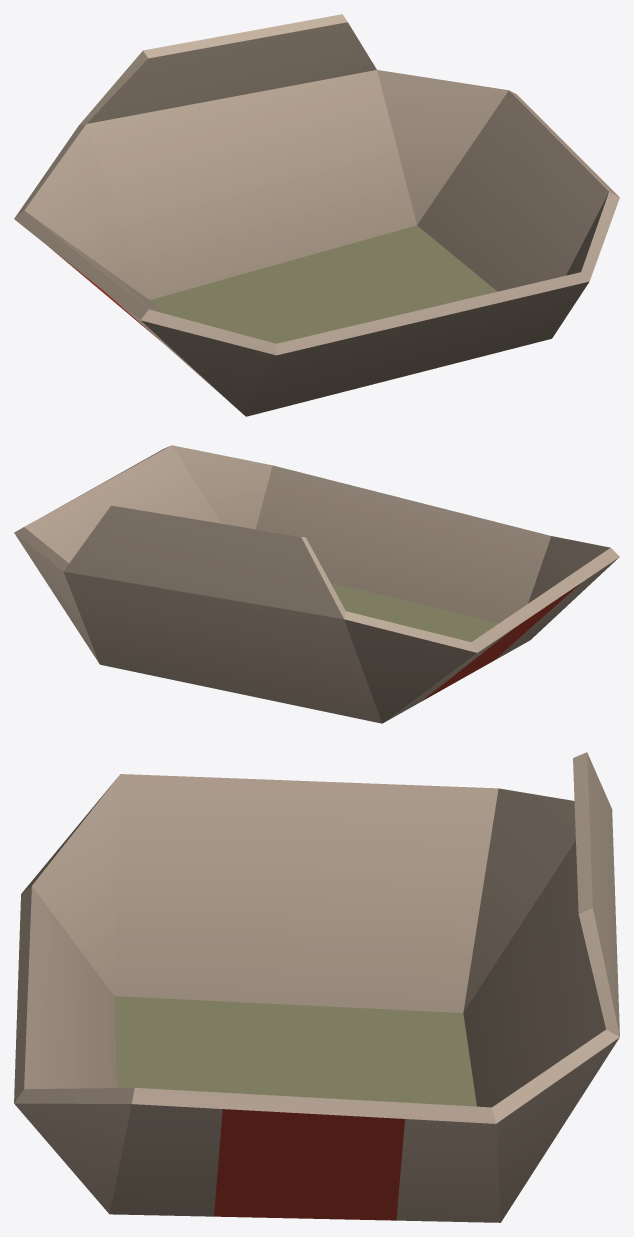
The model's file is Trash_008.fbx.
3 renders of one model, top to bottom at view 1: azimuth 30°, elevation 25°; view 2: azimuth 150°, elevation 25°; view 3: azimuth 270°, elevation 25°, orthographic. The views are drawn at different scales.
Visible parts, largest first — view 1: Trash_008; view 2: Trash_008; view 3: Trash_008.
Boxes of the visible parts, left/top/right/bottom form: Trash_008: left=14, top=14, right=619, bottom=416; Trash_008: left=14, top=445, right=619, bottom=723; Trash_008: left=14, top=752, right=619, bottom=1222.
Size of the model in its own units: 16.92 by 12.52 by 6.97.
